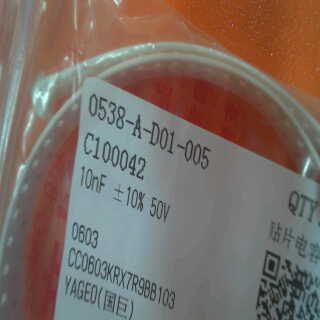10nF: (73, 165, 110, 194)
